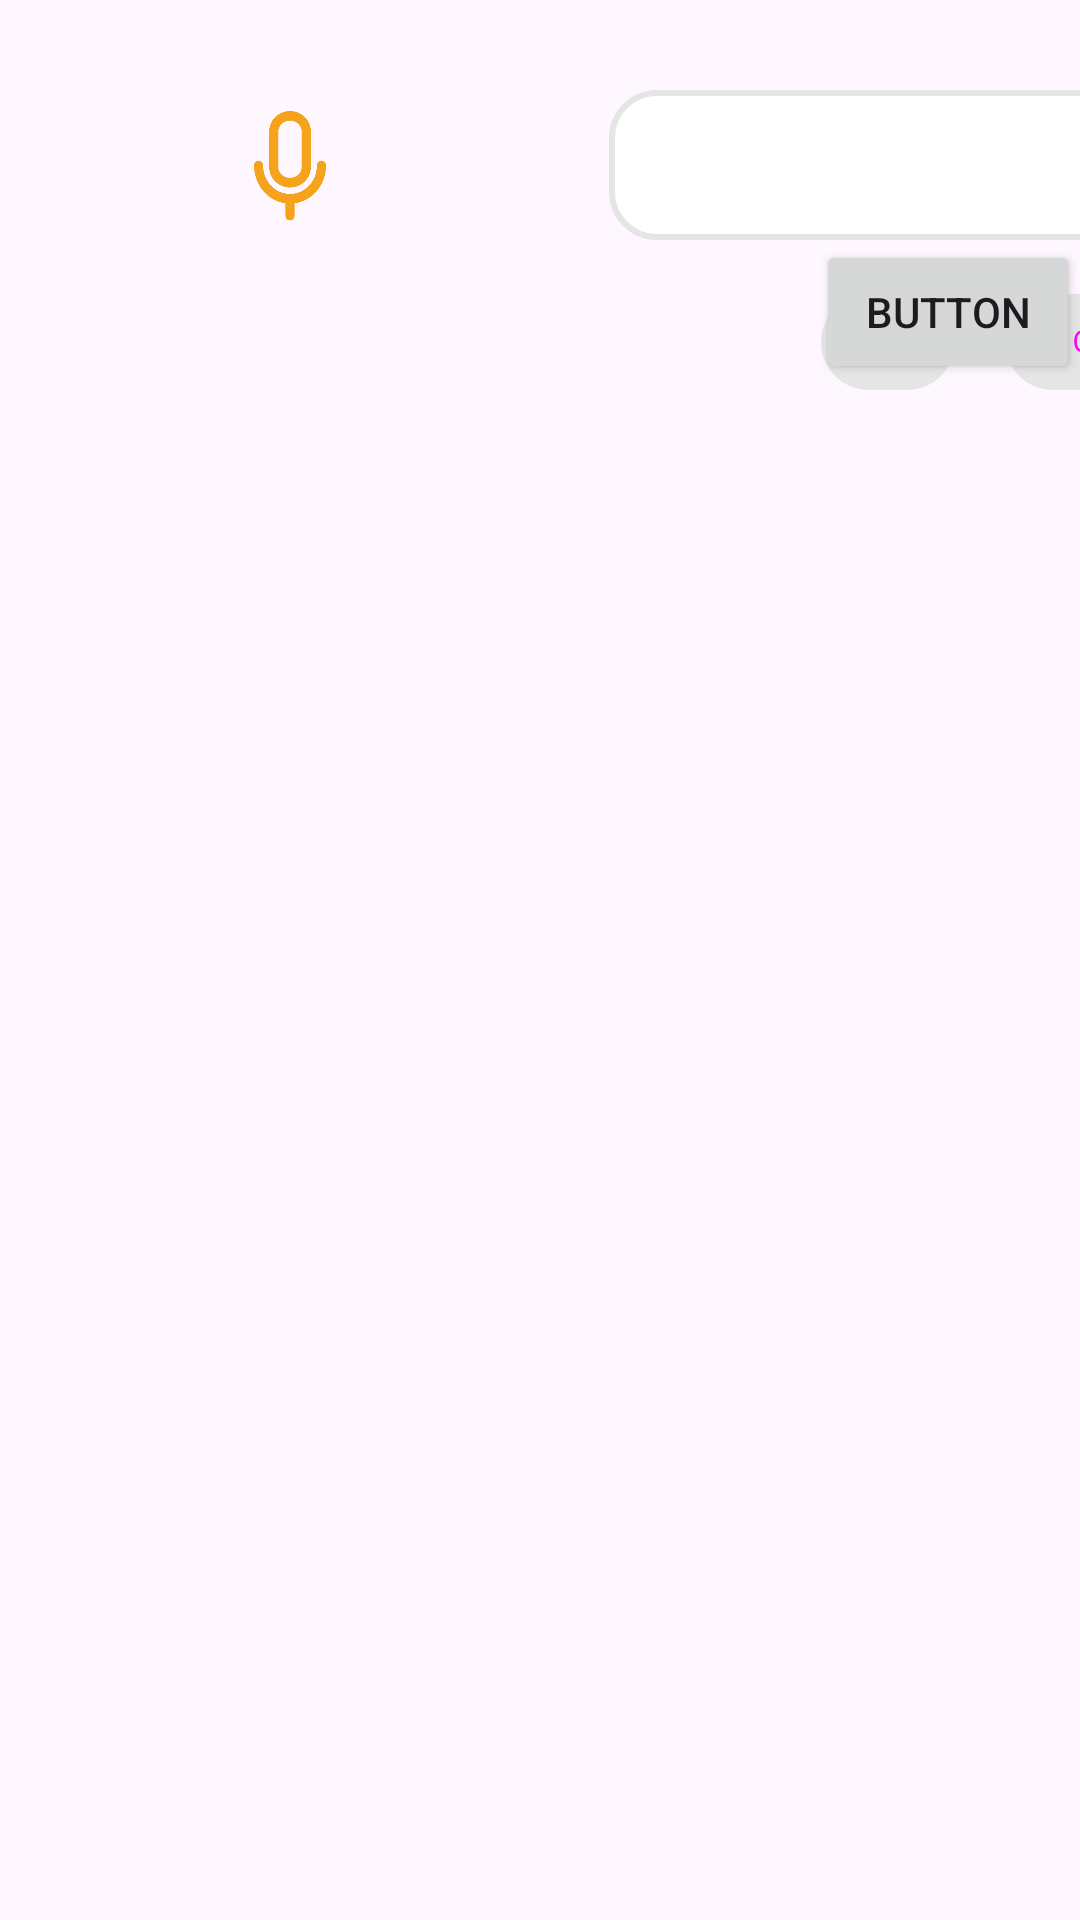

Icon click points for this 1080x1920 phone screenshot, format (x=x, y=y):
voice: (x=290, y=166)
